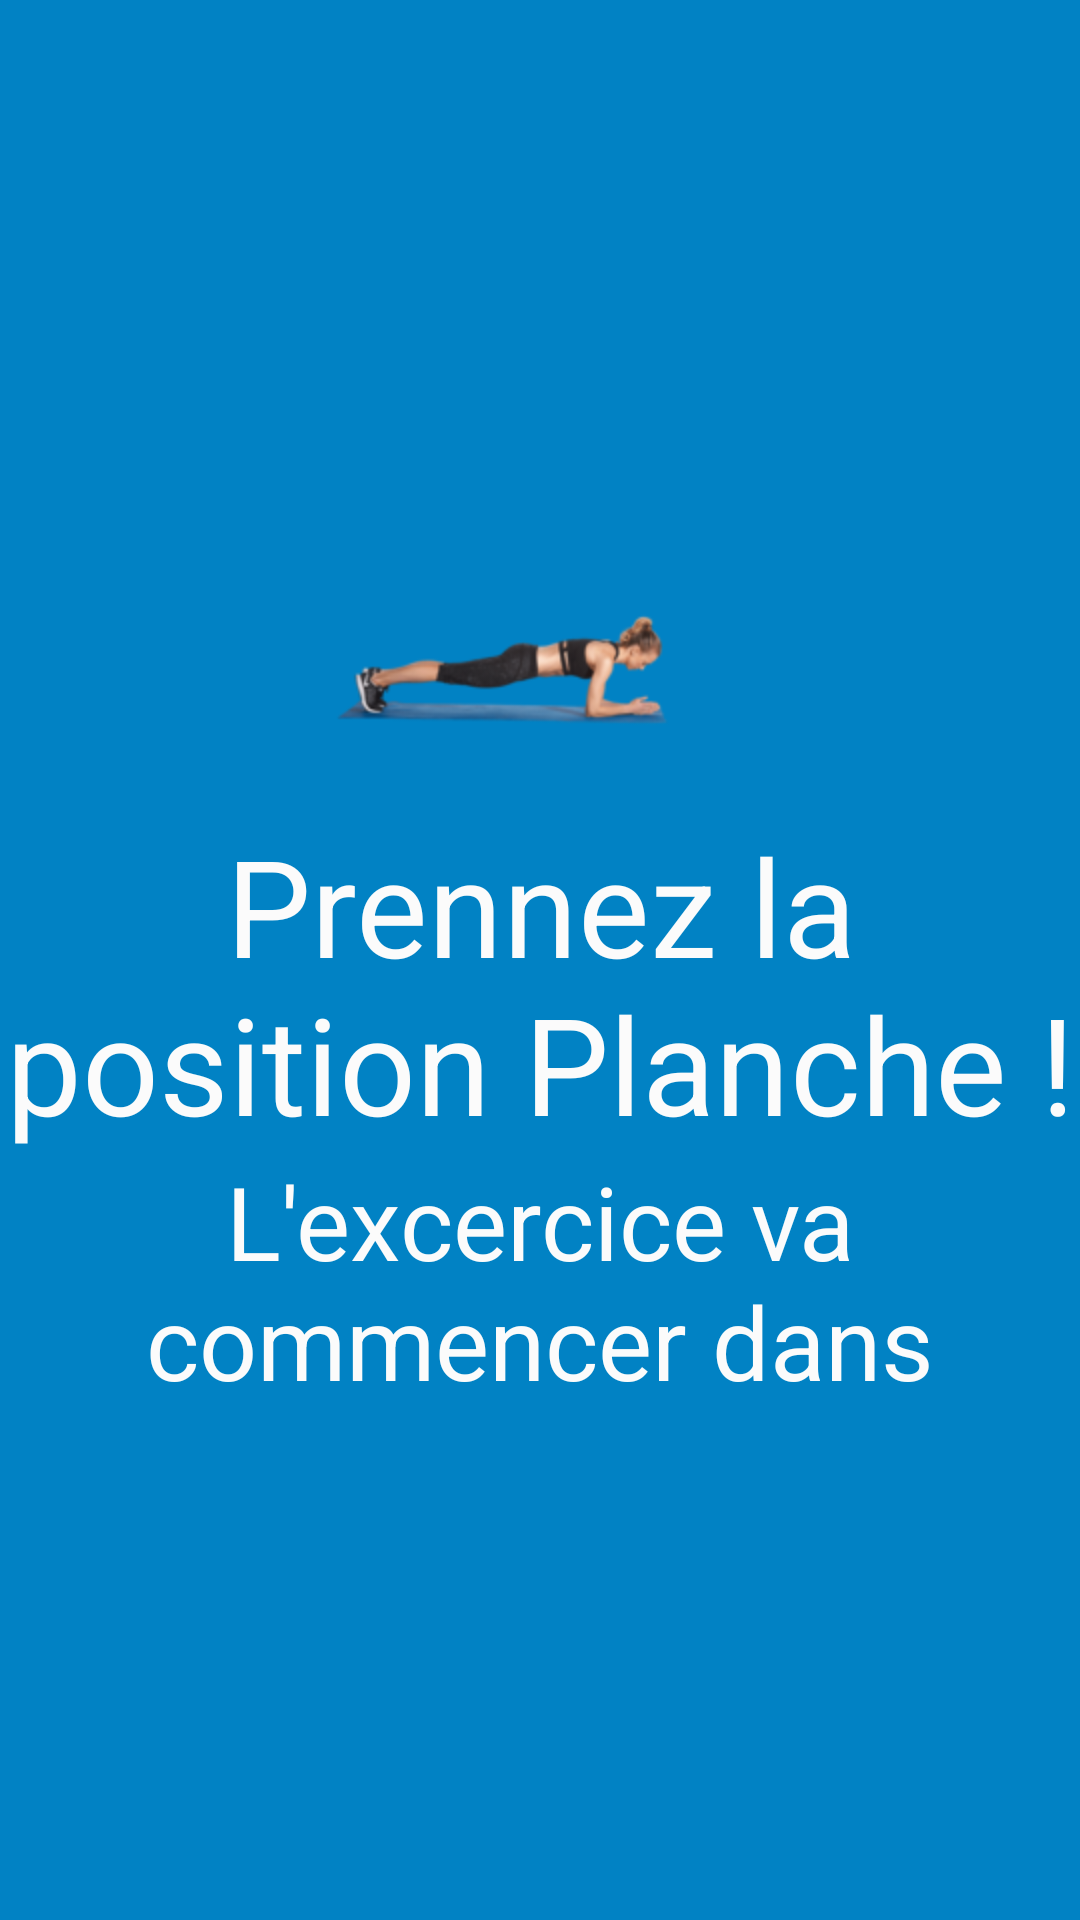

Screen size 1080×1920. Icon name, then its box in pixels as (x1, y1, x2, y2):
plank: (339, 616, 665, 723)
